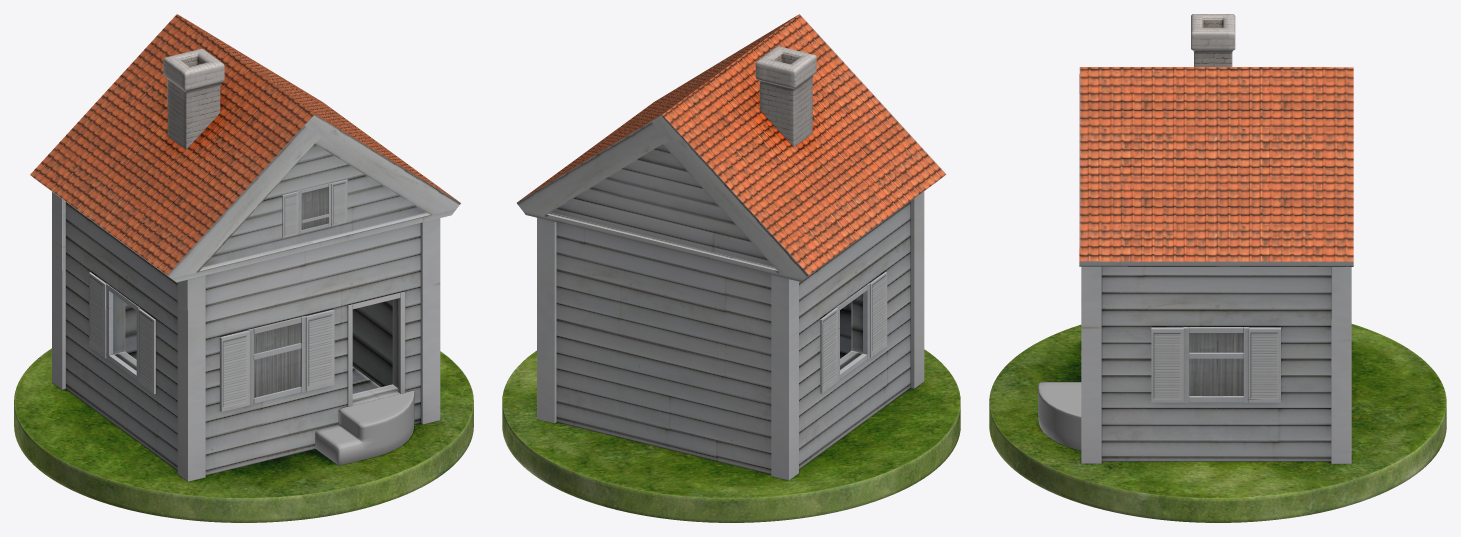
File: home.obj
The picture shows the model from 3 angles, left to right: view 1: azimuth 30°, elevation 25°; view 2: azimuth 150°, elevation 25°; view 3: azimuth 270°, elevation 25°; orthographic projection.
Parts seen in each view (by area): view 1: 20960_Front_Gable_House_v1_NEW; view 2: 20960_Front_Gable_House_v1_NEW; view 3: 20960_Front_Gable_House_v1_NEW.
Part boxes in pixels (<box>): 20960_Front_Gable_House_v1_NEW: <box>14,14,473,522</box>; 20960_Front_Gable_House_v1_NEW: <box>502,14,960,522</box>; 20960_Front_Gable_House_v1_NEW: <box>989,14,1446,522</box>.
Size of the model in its own units: 2.87 by 2.62 by 2.87.
Materials: 1 (1 with a texture image).
